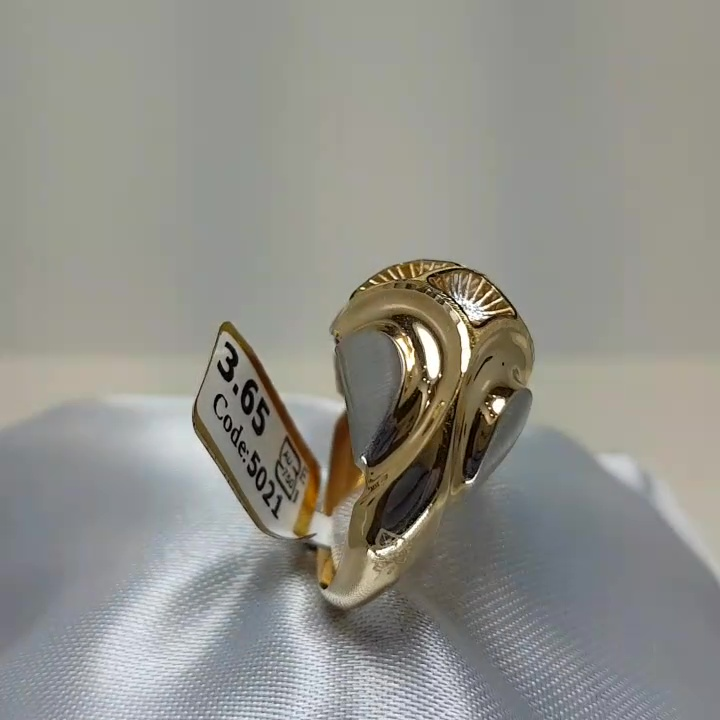Ring 2: (238, 249, 564, 604)
